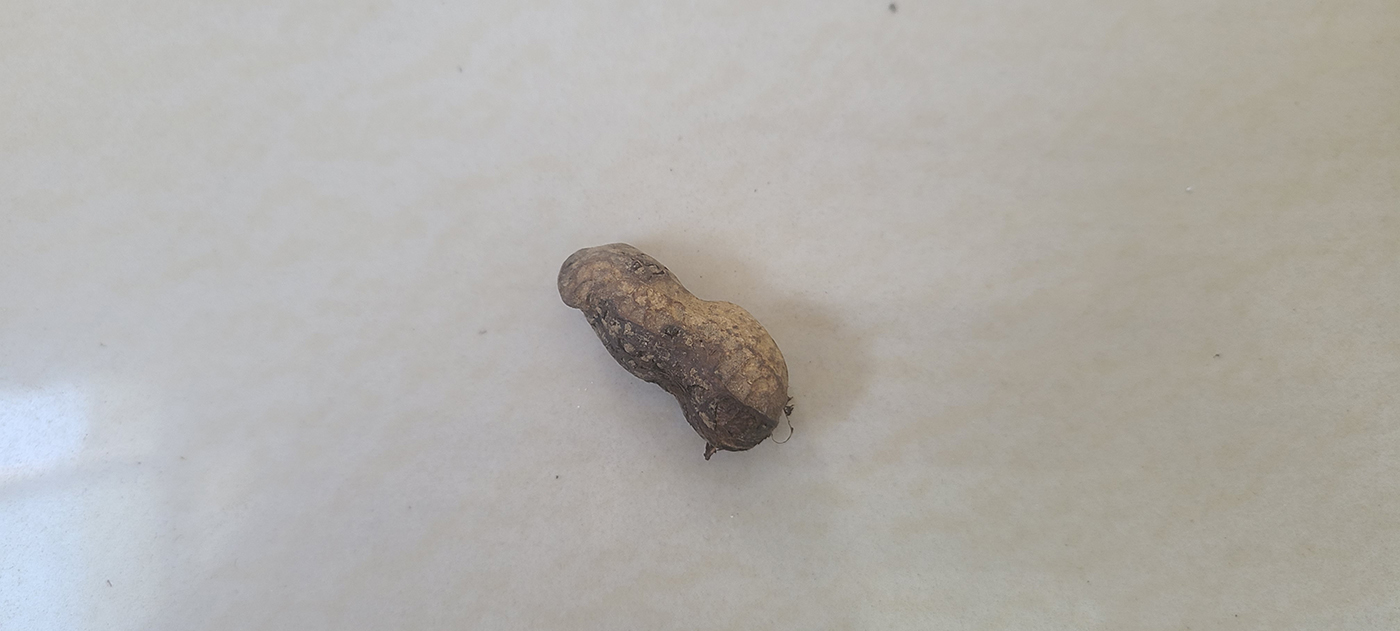l: (559, 242, 790, 449)
